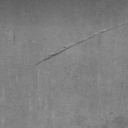finishing roll printing: (34, 22, 128, 66)
